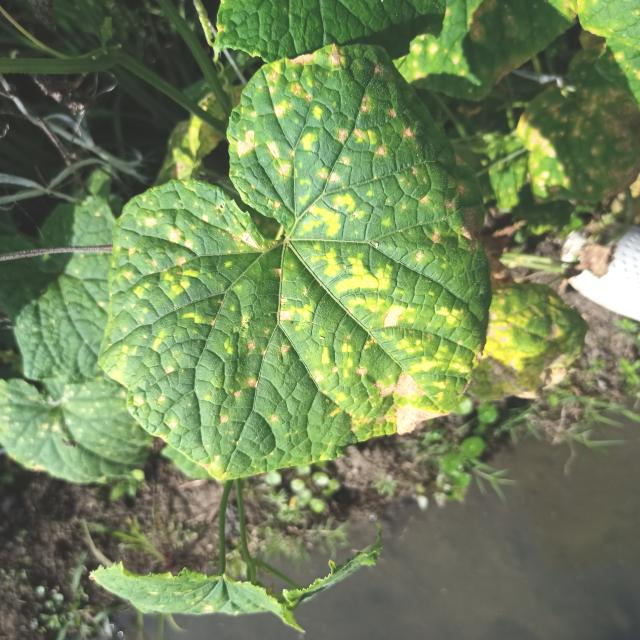disease_cucumber: (106, 43, 485, 470)
